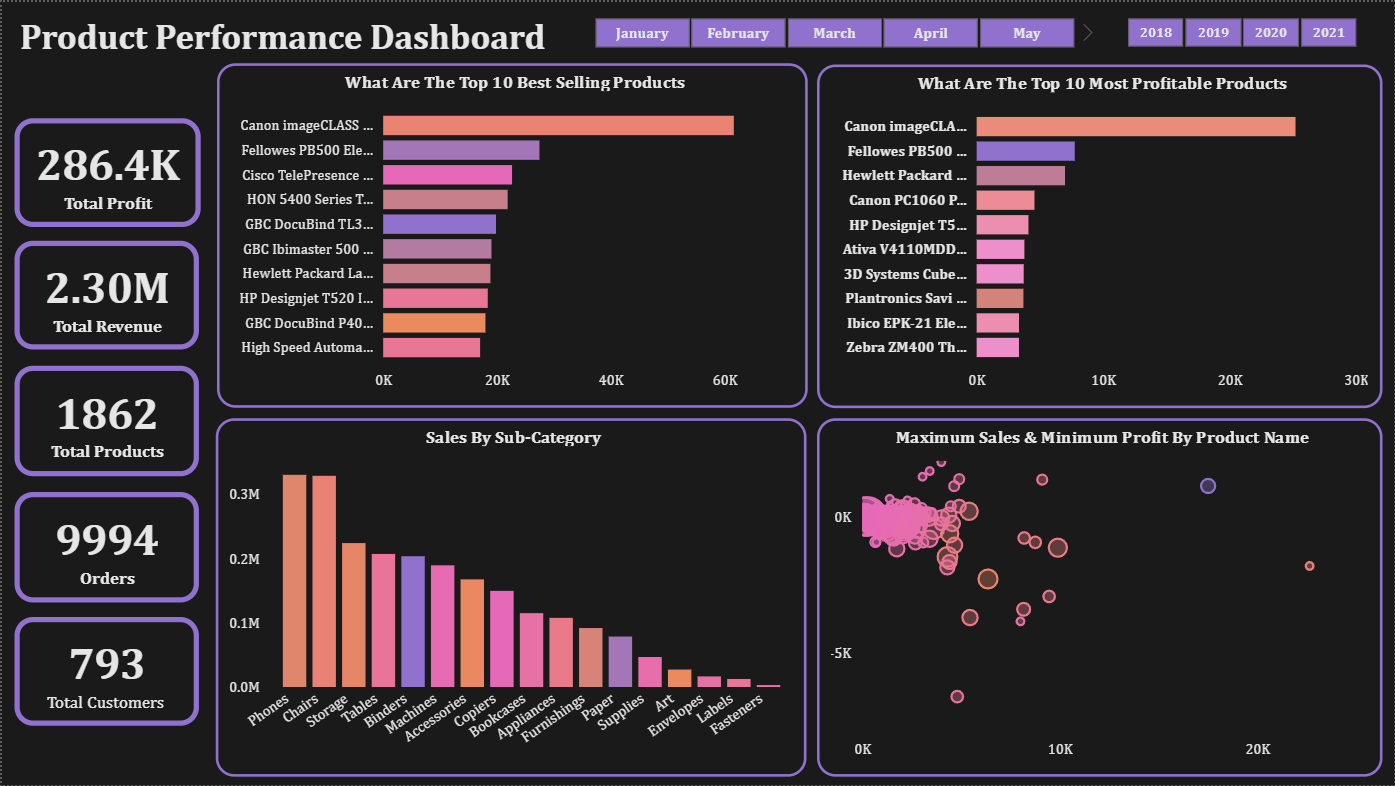

The dashboard page shown, as its layout file describes it:
{"tool":"powerbi","page":{"name":"Page 2","canvas":[1280,720],"ordinal":4},"visuals":[{"type":"clusteredBarChart","title":"What Are The Top 10 Most Profitable Products","fields":{"Category":["Orders.Product Name"],"Y":["Sum(Orders.Profit)"]},"box":[749.2,57.6,520.1,315.6],"z":0},{"type":"clusteredBarChart","title":"What Are The Top 10 Best Selling Products","fields":{"Category":["Orders.Product Name"],"Y":["Sum(Orders.Sales)"]},"box":[197.6,56.3,543.4,317],"z":1000},{"type":"columnChart","title":"Sales By Sub-Category","fields":{"Category":["Orders.Sub-Category"],"Y":["Sum(Orders.Sales)"]},"box":[196.2,382.8,543.4,329.3],"z":2000},{"type":"scatterChart","title":"Maximum Sales & Minimum Profit By Product Name","fields":{"X":["Max(Orders.Sales)"],"Y":["Min(Orders.Profit)"],"Category":["Orders.Product Name"],"Size":["CountNonNull(Orders.Product Name)"]},"box":[749.2,382.8,520.1,329.3],"z":3000},{"type":"card","fields":{"Values":["Sum(Orders.Profit)"]},"box":[11,106.4,171.2,100.3],"z":4000},{"type":"slicer","fields":{"Values":["Orders.Order Date.Variation.Date Hierarchy.Year"]},"box":[1008.8,7.9,260.4,38.3],"z":5000},{"type":"card","fields":{"Values":["Sum(Orders.Sales)"]},"box":[11,220,170,100.3],"z":6000},{"type":"card","fields":{"Values":["Count(Orders.Product ID)"]},"box":[11,335,170,101.5],"z":7000},{"type":"card","fields":{"Values":["CountNonNull(Orders.Order ID)"]},"box":[11,450,170,101.5],"z":8000},{"type":"card","fields":{"Values":["Count(Orders.Customer ID)"]},"box":[11,565,170,100.3],"z":9000},{"type":"slicer","fields":{"Values":["Orders.Order Date.Variation.Date Hierarchy.Month"]},"box":[519.7,8.6,490.4,37.9],"z":10000},{"type":"textbox","box":[11,8.6,508.7,47.7],"z":10001}]}

Visuals, with their boxes in screenshot pixels (x1, y1, x2, y2), scaled from the page's 1280x720 canvas onto the 1395x786 screenshot:
"What Are The Top 10 Most Profitable Products" clusteredBarChart: (817, 63, 1383, 407)
"What Are The Top 10 Best Selling Products" clusteredBarChart: (215, 61, 808, 408)
"Sales By Sub-Category" columnChart: (214, 418, 806, 777)
"Maximum Sales & Minimum Profit By Product Name" scatterChart: (817, 418, 1383, 777)
card - Sum(Orders.Profit): (12, 116, 199, 226)
slicer - Orders.Order Date.Variation.Date Hierarchy.Year: (1099, 9, 1383, 50)
card - Sum(Orders.Sales): (12, 240, 197, 350)
card - Count(Orders.Product ID): (12, 366, 197, 477)
card - CountNonNull(Orders.Order ID): (12, 491, 197, 602)
card - Count(Orders.Customer ID): (12, 617, 197, 726)
slicer - Orders.Order Date.Variation.Date Hierarchy.Month: (566, 9, 1101, 51)
textbox: (12, 9, 566, 61)
